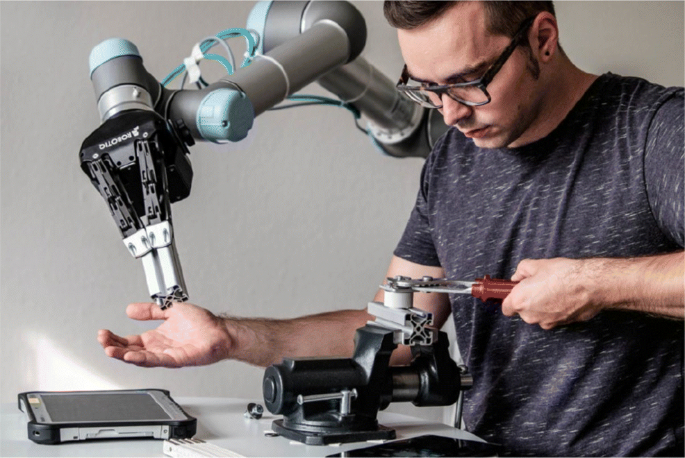person: (97, 2, 685, 458)
robot: (77, 1, 449, 315)
